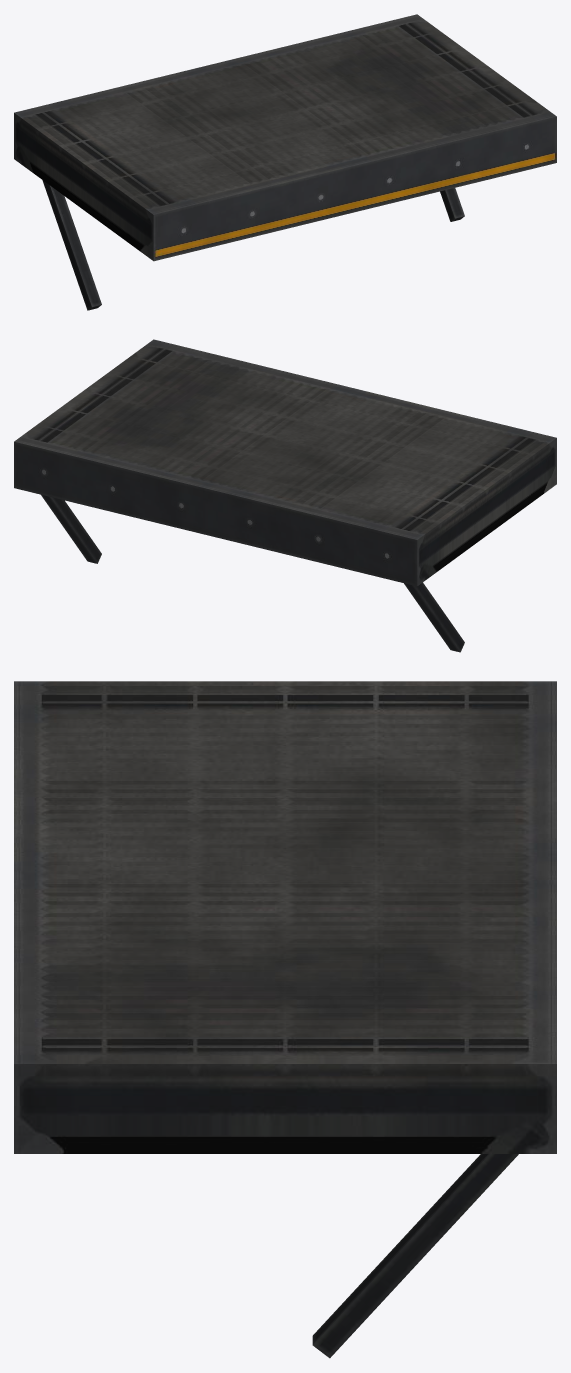
The model's file is catwalk.glb.
3 renders of one model, top to bottom at view 1: azimuth 30°, elevation 25°; view 2: azimuth 150°, elevation 25°; view 3: azimuth 270°, elevation 25°, orthographic. The views are drawn at different scales.
Parts seen in each view (by area): view 1: catwalk; view 2: catwalk; view 3: catwalk.
Boxes of the visible parts, x1,y1,x2,y2 form: catwalk: (14, 14, 556, 310); catwalk: (14, 339, 556, 652); catwalk: (14, 681, 556, 1358).
Size of the model in its own units: 2 by 0.7533 by 1.2.
1 material, 1 textured.
